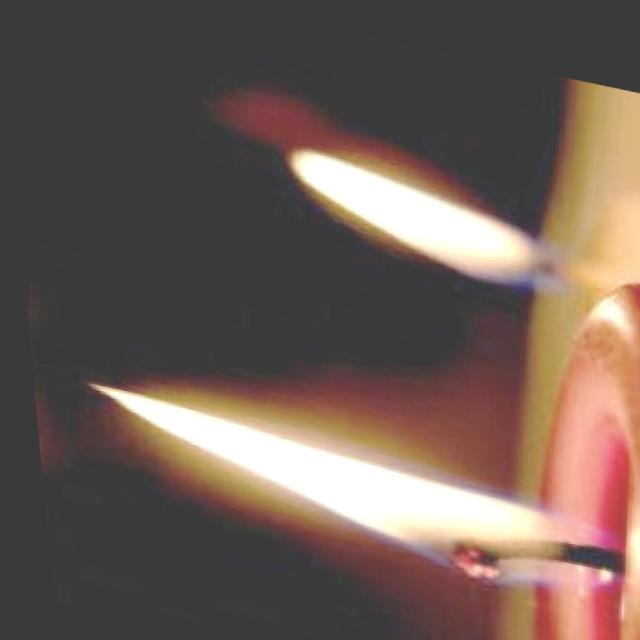Fire: (70, 380, 611, 594), (276, 139, 540, 281)
